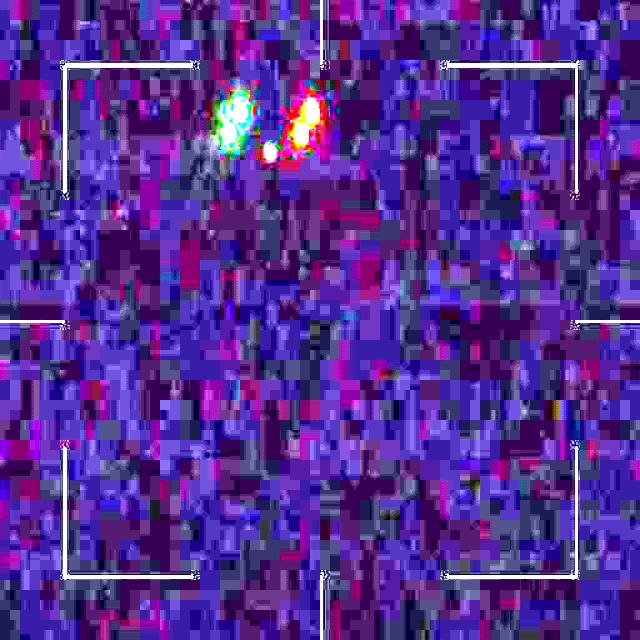bird: (220, 92, 319, 164)
